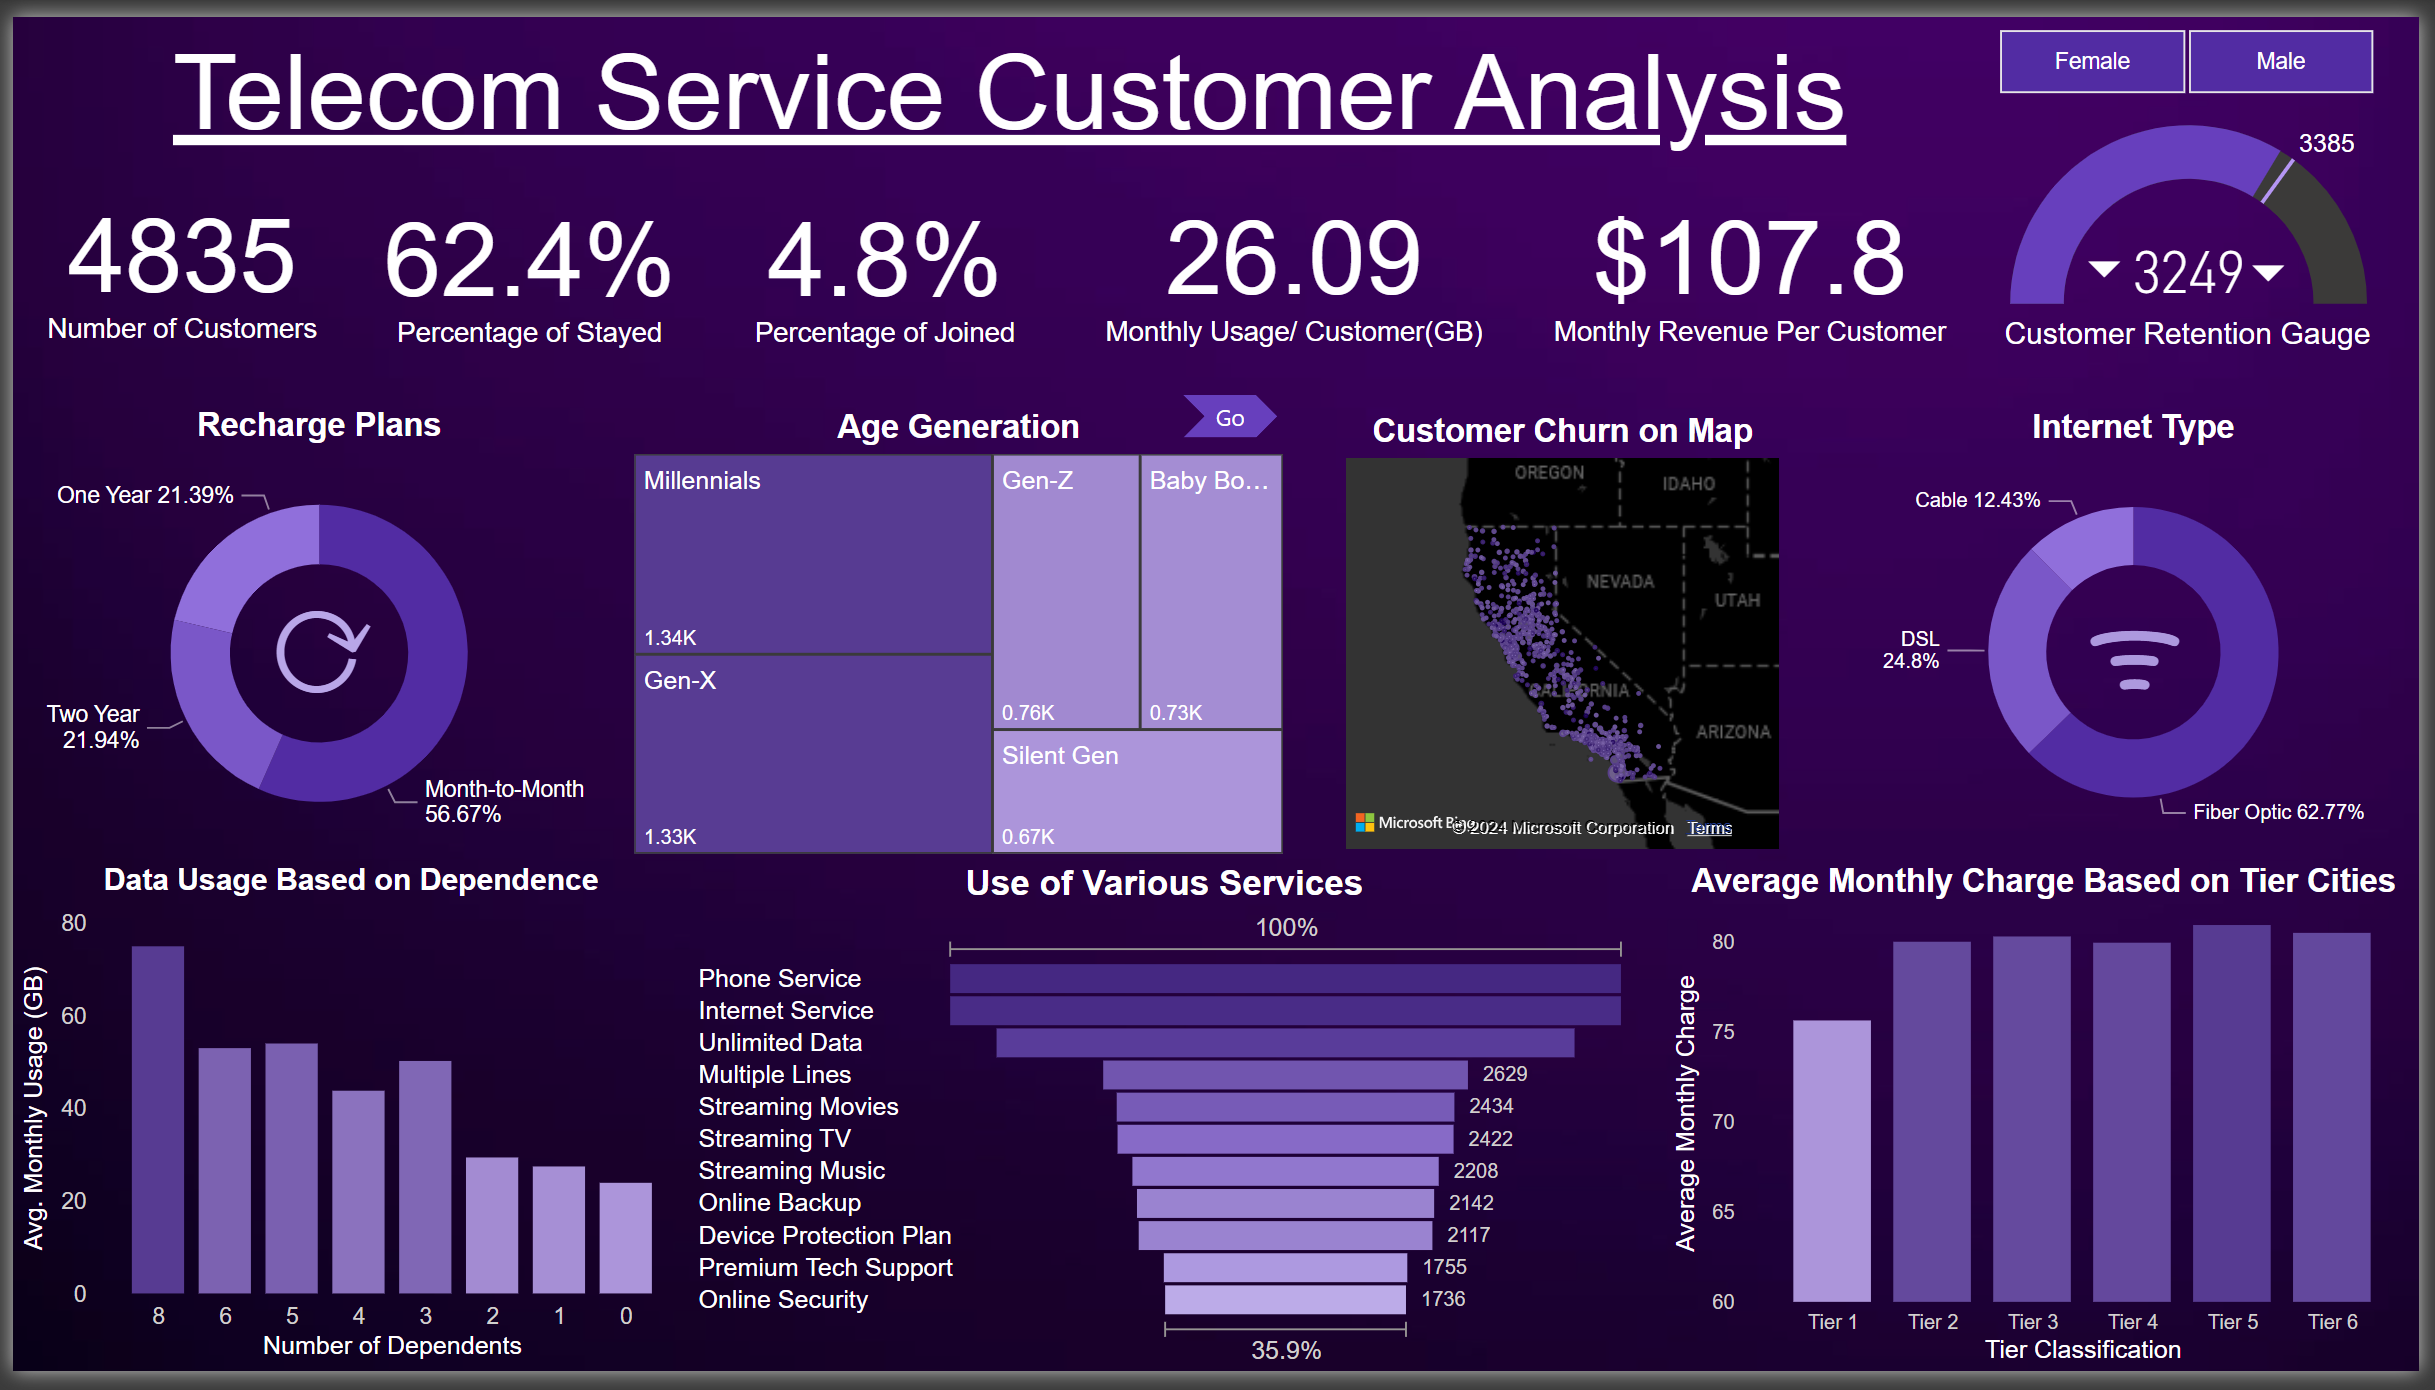

This screenshot's page, from the dashboard's own definition file:
{"tool":"powerbi","page":{"name":"Analysis","canvas":[1280,720],"ordinal":1},"visuals":[{"type":"card","fields":{"Values":["CountNonNull(telecom_customer_churn.Customer ID)"]},"box":[0,78.6,180,111.4],"z":0},{"type":"card","fields":{"Values":["telecom_customer_churn.Percent of Stayed"]},"box":[180,80,190,111.4],"z":1000},{"type":"card","fields":{"Values":["Avg(telecom_customer_churn.Avg Monthly GB Download)"]},"box":[557.4,79.4,247.9,111.8],"z":2000},{"type":"card","fields":{"Values":["Avg(telecom_customer_churn.Monthly Revenue)"]},"box":[803.6,79.4,241.4,111.8],"z":3000},{"type":"treemap","title":"Age Generation","fields":{"Group":["telecom_customer_churn.Generation"],"Values":["CountNonNull(telecom_customer_churn.Customer ID)"]},"box":[325.7,209,354.8,241.4],"z":4000},{"type":"gauge","title":"Customer Retention Gauge","fields":{"MaxValue":["telecom_customer_churn.total customer"],"TargetValue":["telecom_customer_churn.Retaintion Rate"],"Y":["Sum(telecom_customer_churn.Retention)"]},"box":[1048.3,48.6,218.7,111.8],"z":5000},{"type":"textbox","box":[1054.8,157.2,225.2,32.4],"z":6000},{"type":"donutChart","title":"Internet Type","fields":{"Category":["telecom_customer_churn.Internet Type"],"Y":["CountNonNull(telecom_customer_churn.Customer ID)"]},"box":[972.2,209,311.1,239.8],"z":7000},{"type":"clusteredColumnChart","title":"Data Usage Based on Dependence","fields":{"Category":["telecom_customer_churn.Number of Dependents"],"Y":["Avg(telecom_customer_churn.Avg Monthly GB Download)"]},"box":[0,450.4,359.7,269],"z":8000},{"type":"funnel","title":"Use of Various Services","fields":{"Y":["Sum(telecom_customer_churn.Phone Service)","Sum(telecom_customer_churn.Internet Service)","Sum(telecom_customer_churn.Unlimited Data)","Sum(telecom_customer_churn.Multiple Lines)","Sum(telecom_customer_churn.Streaming Movies)","Sum(telecom_customer_churn.Streaming TV)","Sum(telecom_customer_churn.Streaming Music)","Sum(telecom_customer_churn.Online Backup)","Sum(telecom_customer_churn.Device Protection Plan)","Sum(telecom_customer_churn.Premium Tech Support)","Sum(telecom_customer_churn.Online Security)"]},"box":[360,450,505.7,272.9],"z":9000},{"type":"donutChart","title":"Recharge Plans","fields":{"Y":["CountNonNull(telecom_customer_churn.Customer ID)"],"Category":["telecom_customer_churn.Contract"]},"box":[0,207.4,325.7,243],"z":10000},{"type":"shape","box":[622.2,200.9,50.2,22.7],"z":11000},{"type":"clusteredColumnChart","title":"Average Monthly Charge Based on Tier Cities","fields":{"Category":["telecom_zipcode_population.Tier Classification"],"Y":["Avg(telecom_customer_churn.Monthly Charge)"]},"box":[878.6,450,402.9,271.4],"z":12000},{"type":"map","title":"Customer Churn on Map","fields":{"Y":["telecom_customer_churn.Latitude"],"X":["telecom_customer_churn.Longitude"],"Size":["CountNonNull(telecom_customer_churn.Churn Category)"],"Category":["telecom_customer_churn.City"]},"box":[703.9,210.9,239.9,237.3],"z":13000},{"type":"card","fields":{"Values":["telecom_customer_churn.Percentage of Joined"]},"box":[370,80,187.1,111.4],"z":14000},{"type":"slicer","fields":{"Values":["telecom_customer_churn.Gender"]},"box":[1033.5,0,246.5,47.5],"z":15000},{"type":"textbox","box":[46.7,3.3,966.7,88.3],"z":16000},{"type":"card","fields":{"Values":["telecom_customer_churn.Retain Status"]},"box":[1080.7,106.9,64.8,55.1],"z":17000},{"type":"card","fields":{"Values":["telecom_customer_churn.Retain Status"]},"box":[1168.2,108.6,64.8,55.1],"z":18000},{"type":"textbox","box":[131.8,299.2,67.2,83],"z":19000},{"type":"textbox","box":[1096.9,257.6,97.2,160.4],"z":20000}]}

Visuals, with their boxes in screenshot pixels (x1, y1, x2, y2), scaled from the page's 1280x720 canvas onto the 2435x1390 screenshot:
card - CountNonNull(telecom_customer_churn.Customer ID): 0, 152, 342, 367
card - telecom_customer_churn.Percent of Stayed: 342, 154, 704, 370
card - Avg(telecom_customer_churn.Avg Monthly GB Download): 1060, 153, 1532, 369
card - Avg(telecom_customer_churn.Monthly Revenue): 1529, 153, 1988, 369
"Age Generation" treemap: 620, 403, 1295, 870
"Customer Retention Gauge" gauge: 1994, 94, 2410, 310
textbox: 2007, 303, 2434, 366
"Internet Type" donutChart: 1849, 403, 2434, 866
"Data Usage Based on Dependence" clusteredColumnChart: 0, 870, 684, 1389
"Use of Various Services" funnel: 685, 869, 1647, 1389
"Recharge Plans" donutChart: 0, 400, 620, 870
shape: 1184, 388, 1279, 432
"Average Monthly Charge Based on Tier Cities" clusteredColumnChart: 1671, 869, 2434, 1389
"Customer Churn on Map" map: 1339, 407, 1795, 865
card - telecom_customer_churn.Percentage of Joined: 704, 154, 1060, 370
slicer - telecom_customer_churn.Gender: 1966, 0, 2434, 92
textbox: 89, 6, 1928, 177
card - telecom_customer_churn.Retain Status: 2056, 206, 2179, 313
card - telecom_customer_churn.Retain Status: 2222, 210, 2346, 316
textbox: 251, 578, 379, 738
textbox: 2087, 497, 2272, 807
